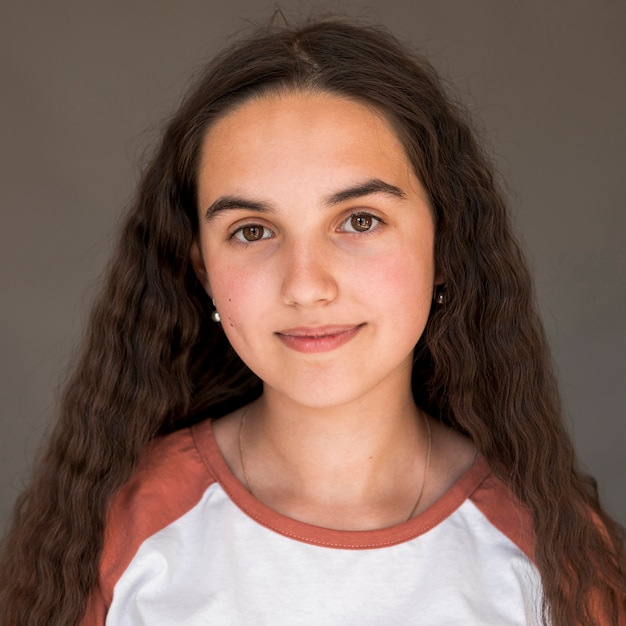teen: (171, 42, 470, 430)
